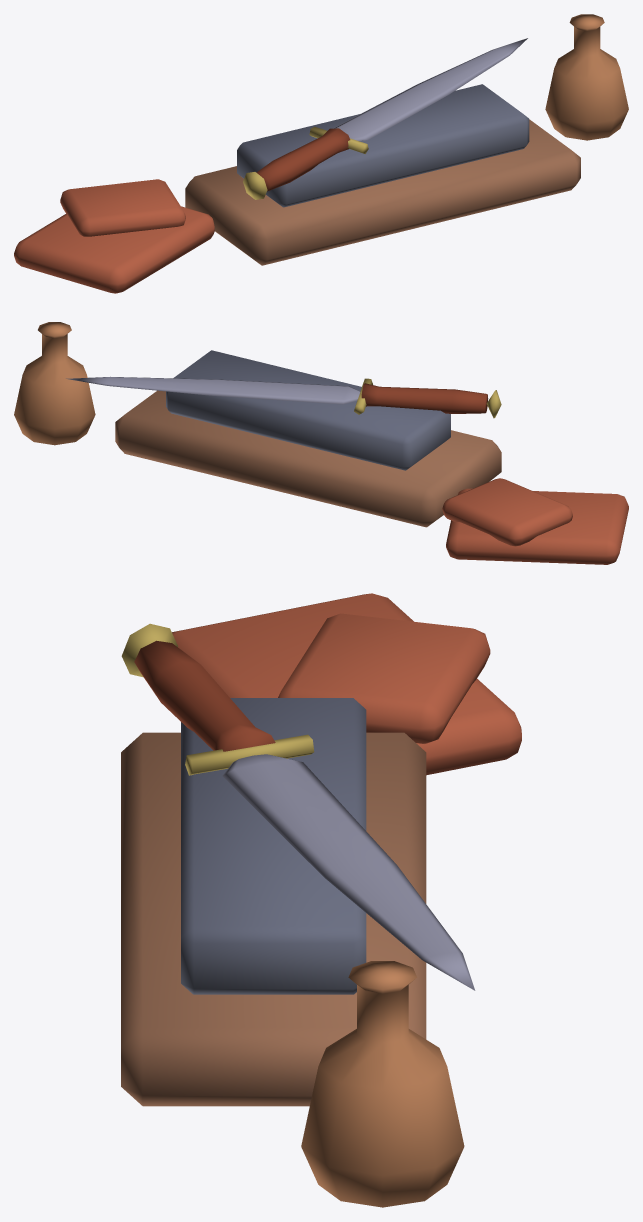
The model's file is whetstone_kit.glb.
3 views of the same model, one above another, from view 1: azimuth 30°, elevation 25°; view 2: azimuth 150°, elevation 25°; view 3: azimuth 270°, elevation 25° (orthographic). The views are drawn at different scales.
Visible parts, largest first — view 1: whetstone_kit; view 2: whetstone_kit; view 3: whetstone_kit.
Boxes of the visible parts, left/top/right/bottom form: whetstone_kit: left=14, top=14, right=628, bottom=293; whetstone_kit: left=14, top=322, right=628, bottom=564; whetstone_kit: left=121, top=593, right=521, bottom=1207.
Size of what is drawn, in the model's own units: 0.631 by 0.107 by 0.184.
